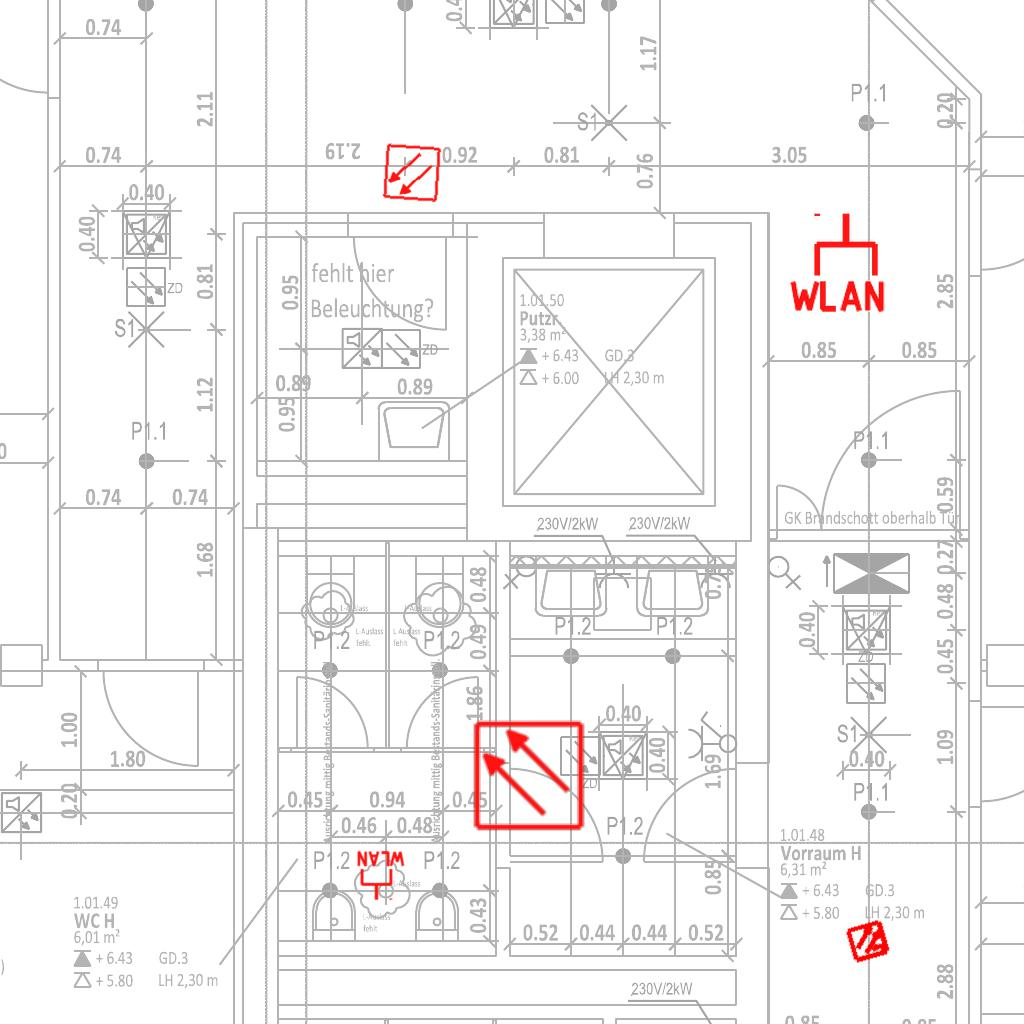OT_Multisensormelder_(Kombination_RMO_WMD): (834, 906, 904, 976)
RMO_Rauchmelder_optischer: (472, 719, 585, 832), (382, 143, 442, 203)
WLAN: (785, 209, 889, 314), (355, 850, 407, 902)
